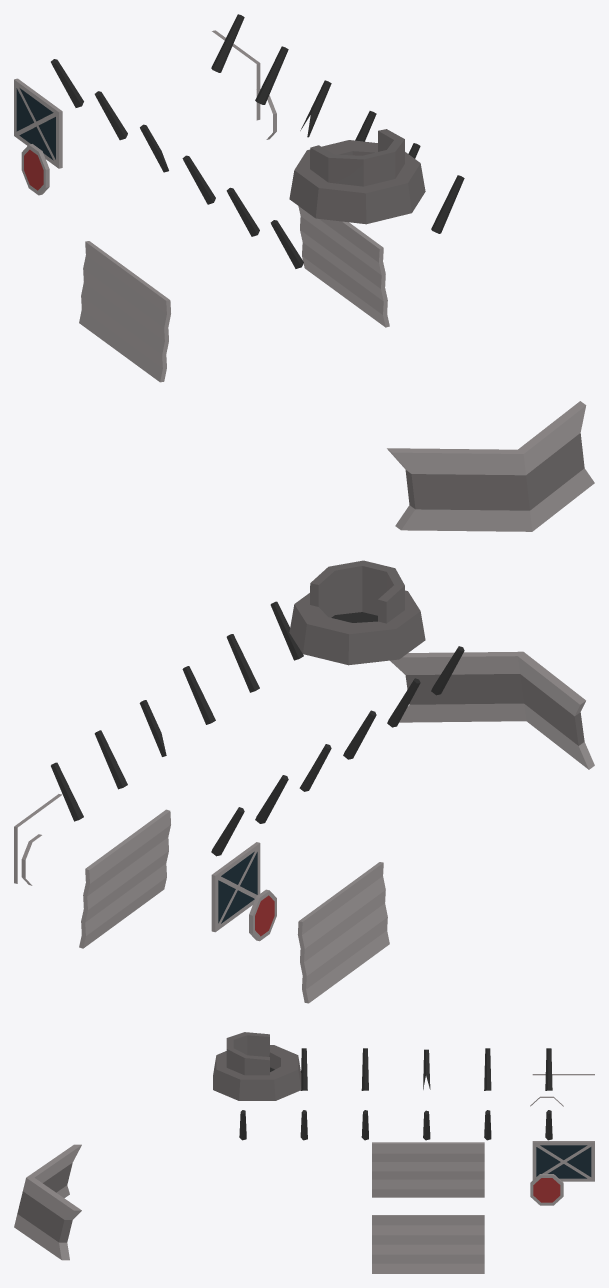
The model's file is bus-school-equipment.glb.
3 renders of one model, top to bottom at view 1: azimuth 30°, elevation 25°; view 2: azimuth 150°, elevation 25°; view 3: azimuth 270°, elevation 25°, orthographic. The views are drawn at different scales.
Visible parts, largest first — view 1: bus-school-equipment; view 2: bus-school-equipment; view 3: bus-school-equipment.
Boxes of the visible parts, x1,y1,x2,y2 form: bus-school-equipment: (14, 14, 594, 531); bus-school-equipment: (14, 560, 594, 1003); bus-school-equipment: (14, 1032, 594, 1273).
Bounding box in the file's own units: 3.03 × 3.46 × 9.5.
1 material, 1 textured.
